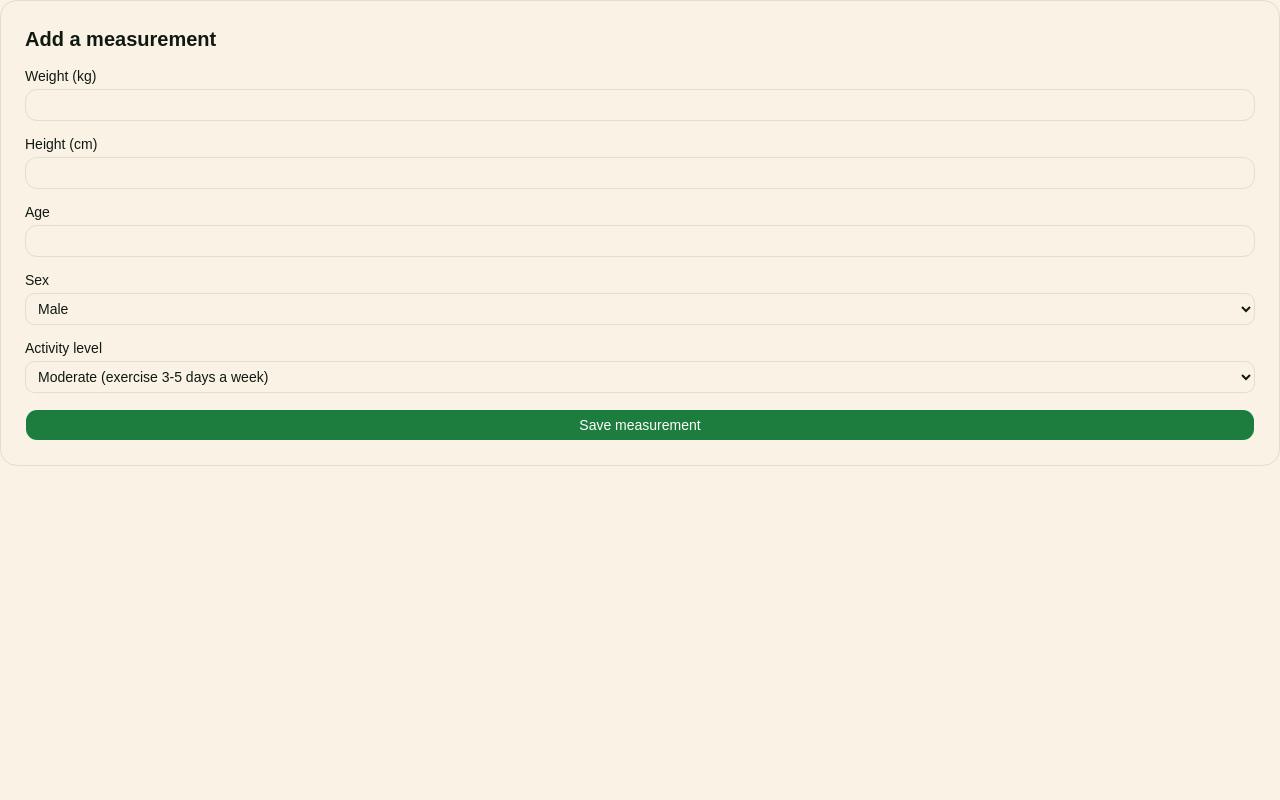
Test: MeasurementForm › shows inline validation errors for invalid input
The width and height of the screenshot is (1280, 800).
Step 1. Click the button "Save measurement" → (640, 425), box left=25, top=409, right=1255, bottom=441
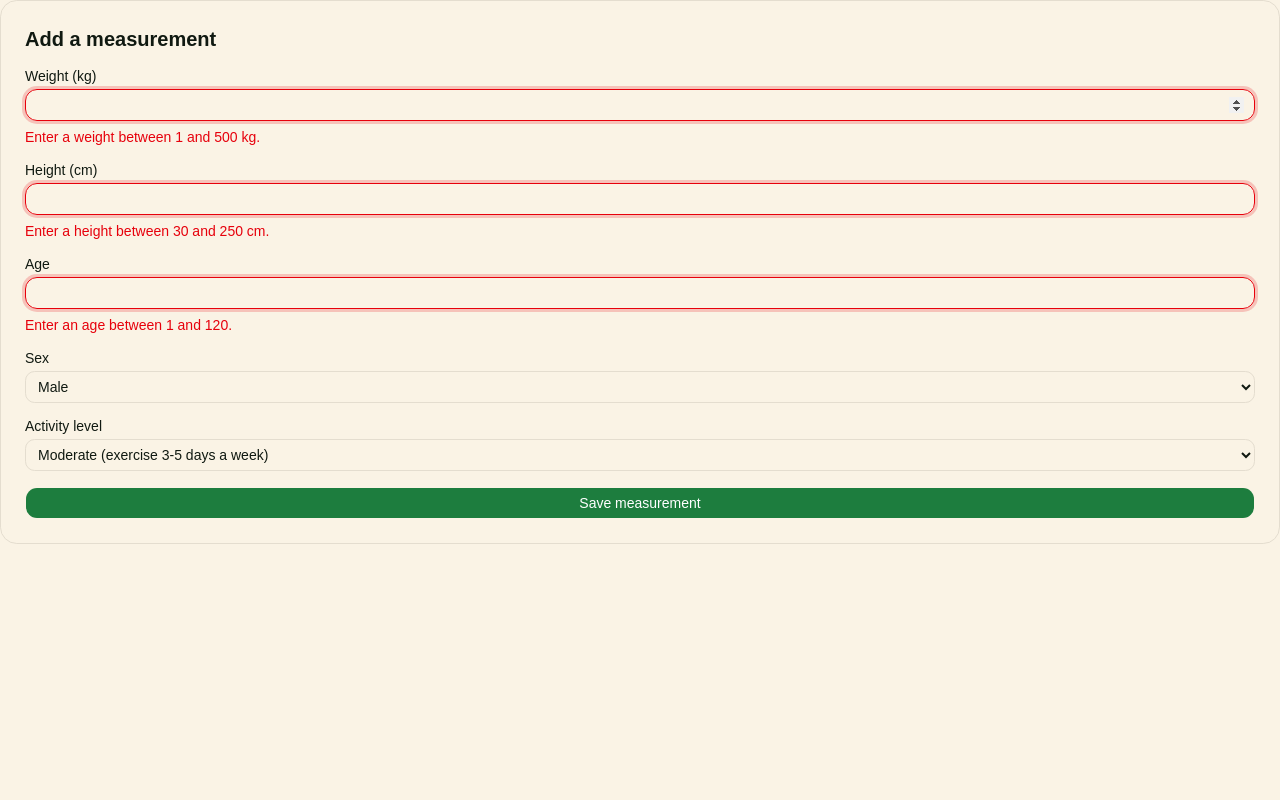
Expected: the text "Enter a weight between 1 and 500 kg." is shown, left=25, top=129, right=260, bottom=145
Expected: the text "Enter a height between 30 and 250 cm." is shown, left=25, top=223, right=269, bottom=239
